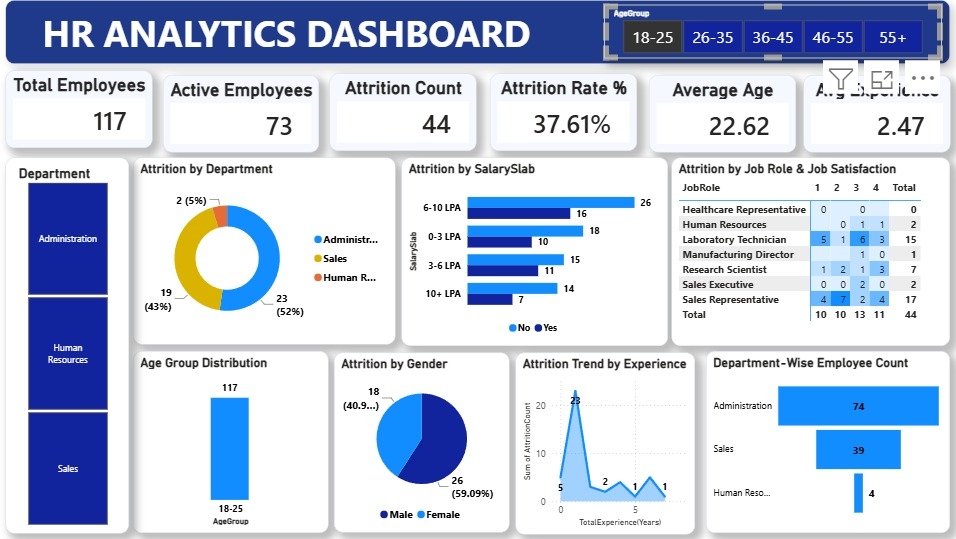

The page's visual inventory and layout, read from the dashboard file:
{"tool":"powerbi","page":{"name":"Page 2","canvas":[1280,720],"ordinal":0},"visuals":[{"type":"textbox","box":[9.4,0,1259,85],"z":0},{"type":"cardVisual","title":"Total Employees","fields":{"Data":["CountNonNull(HR_Analytics-4.EmpID)"]},"box":[10.1,95,196,103.1],"z":1000},{"type":"cardVisual","title":"Active Employees","fields":{"Data":["CountNonNull(HR_Analytics-4.EmployeeCount)"]},"box":[220.3,99,208.2,103.1],"z":2000},{"type":"cardVisual","title":"Attrition Count","fields":{"Data":["Sum(HR_Analytics-4.AttritionCount)"]},"box":[442.6,97,196,103.1],"z":3000},{"type":"cardVisual","title":"Attrition Rate %","fields":{"Data":["HR_Analytics-4.Attrition Rate %"]},"box":[656.8,97,196,103.1],"z":4000},{"type":"cardVisual","title":"Average Age","fields":{"Data":["Avg(HR_Analytics-4.Age)"]},"box":[867,99,196,103.1],"z":5000},{"type":"cardVisual","title":"Avg Experience","fields":{"Data":["Avg(HR_Analytics-4.YearsatCompany)"]},"box":[1073.2,99,196,103.1],"z":6000},{"type":"donutChart","title":" Attrition by Department","fields":{"Category":["HR_Analytics-4.Department"],"Y":["Sum(HR_Analytics-4.AttritionCount)"]},"box":[179,210,350,249],"z":7000},{"type":"clusteredBarChart","title":"Attrition by SalarySlab","fields":{"Category":["HR_Analytics-4.SalarySlab"],"Y":["Sum(HR_Analytics-4.EmployeeCount)"],"Series":["HR_Analytics-4.Attrition"]},"box":[537,209,355,251],"z":8000},{"type":"pivotTable","title":"Attrition by Job Role & Job Satisfaction","fields":{"Rows":["HR_Analytics-4.JobRole"],"Values":["Sum(HR_Analytics-4.AttritionCount)"],"Columns":["HR_Analytics-4.JobSatisfaction"]},"box":[898,209,371,251],"z":9000},{"type":"columnChart","title":"Age Group  Distribution","fields":{"Category":["HR_Analytics-4.AgeGroup"],"Y":["Sum(HR_Analytics-4.EmployeeCount)"]},"box":[179.9,468.9,260.7,242.5],"z":9001},{"type":"pieChart","title":" Attrition by Gender","fields":{"Category":["HR_Analytics-4.Gender"],"Y":["Sum(HR_Analytics-4.AttritionCount)"]},"box":[448,470.9,234,240],"z":9002},{"type":"areaChart","title":"Attrition Trend  by Experience","fields":{"Category":["HR_Analytics-4.TotalExperience(Years)"],"Y":["Sum(HR_Analytics-4.AttritionCount)"]},"box":[689,469,239,242.5],"z":9003},{"type":"funnel","title":"Department-Wise Employee Count","fields":{"Category":["HR_Analytics-4.Department"],"Y":["Sum(HR_Analytics-4.EmployeeCount)"]},"box":[943.8,468.9,325.4,242.5],"z":9004},{"type":"slicer","fields":{"Values":["HR_Analytics-4.Department"]},"box":[9.6,209.3,164.5,501.6],"z":9005},{"type":"slicer","fields":{"Values":["HR_Analytics-4.AgeGroup"]},"box":[808.3,6.4,448.9,71.9],"z":9006}]}

Visuals, with their boxes in screenshot pixels (x1, y1, x2, y2), scaled from the page's 1280x720 canvas onto the 956x539 screenshot:
textbox: bbox=[7, 0, 947, 64]
"Total Employees" cardVisual: bbox=[8, 71, 154, 148]
"Active Employees" cardVisual: bbox=[165, 74, 320, 151]
"Attrition Count" cardVisual: bbox=[331, 73, 477, 150]
"Attrition Rate %" cardVisual: bbox=[491, 73, 637, 150]
"Average Age" cardVisual: bbox=[648, 74, 794, 151]
"Avg Experience" cardVisual: bbox=[802, 74, 948, 151]
" Attrition by Department" donutChart: bbox=[134, 157, 395, 344]
"Attrition by SalarySlab" clusteredBarChart: bbox=[401, 156, 666, 344]
"Attrition by Job Role & Job Satisfaction" pivotTable: bbox=[671, 156, 948, 344]
"Age Group  Distribution" columnChart: bbox=[134, 351, 329, 533]
" Attrition by Gender" pieChart: bbox=[335, 353, 509, 532]
"Attrition Trend  by Experience" areaChart: bbox=[515, 351, 693, 533]
"Department-Wise Employee Count" funnel: bbox=[705, 351, 948, 533]
slicer - HR_Analytics-4.Department: bbox=[7, 157, 130, 532]
slicer - HR_Analytics-4.AgeGroup: bbox=[604, 5, 939, 59]
